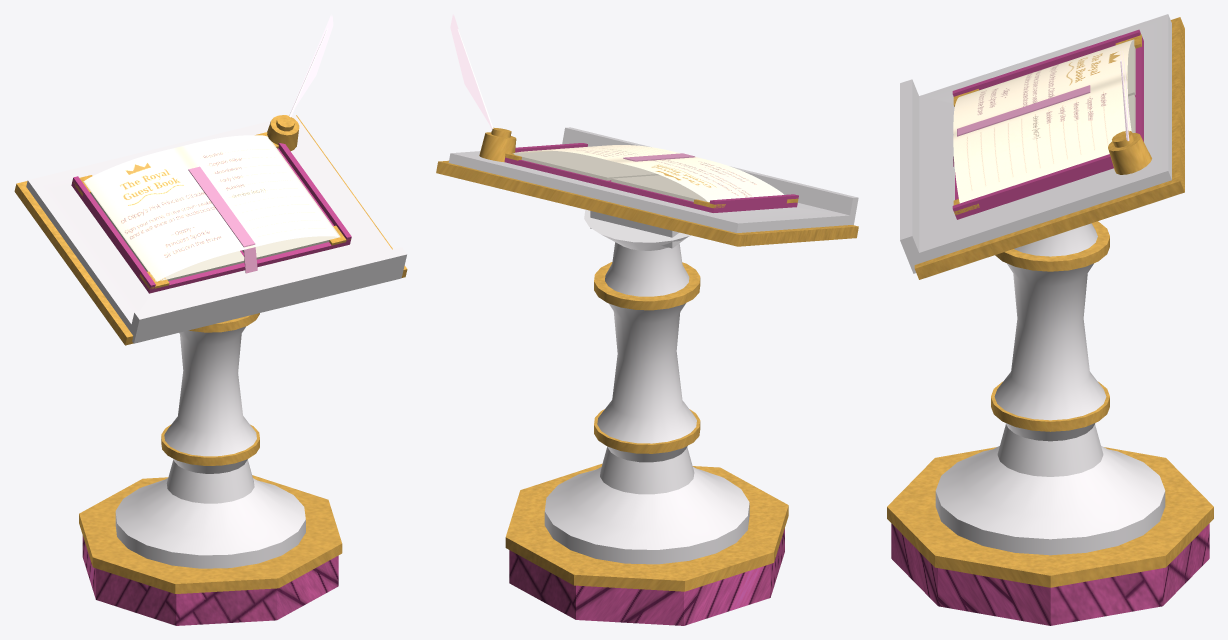
File: citadel_guestbook.glb
3 views of the same model, side by side, from view 1: azimuth 30°, elevation 25°; view 2: azimuth 150°, elevation 25°; view 3: azimuth 270°, elevation 25° (orthographic). The views are drawn at different scales.
Parts seen in each view (by area): view 1: gb_white, gb_pages, gb_gold, gb_pinkstone, gb_velvet, gb_pageedge, gb_satin, gb_feather; view 2: gb_white, gb_gold, gb_pinkstone, gb_pages, gb_pageedge, gb_velvet, gb_feather; view 3: gb_white, gb_gold, gb_pages, gb_pinkstone, gb_velvet, gb_satin, gb_pageedge.
Part boxes in pixels (x1=…): gb_white: x1=26, y1=115, x2=406, y2=568; gb_pages: x1=85, y1=135, x2=339, y2=281; gb_gold: x1=14, y1=115, x2=407, y2=593; gb_pinkstone: x1=82, y1=535, x2=338, y2=625; gb_velvet: x1=71, y1=143, x2=351, y2=293; gb_pageedge: x1=83, y1=136, x2=340, y2=281; gb_satin: x1=188, y1=166, x2=257, y2=273; gb_feather: x1=289, y1=14, x2=333, y2=117; gb_white: x1=448, y1=127, x2=858, y2=564; gb_gold: x1=436, y1=127, x2=858, y2=591; gb_pinkstone: x1=509, y1=528, x2=784, y2=625; gb_pages: x1=512, y1=145, x2=783, y2=201; gb_pageedge: x1=514, y1=151, x2=709, y2=202; gb_velvet: x1=504, y1=143, x2=798, y2=212; gb_feather: x1=450, y1=14, x2=493, y2=130; gb_white: x1=900, y1=14, x2=1171, y2=555; gb_gold: x1=887, y1=17, x2=1213, y2=587; gb_pages: x1=953, y1=39, x2=1133, y2=203; gb_pinkstone: x1=891, y1=523, x2=1209, y2=625; gb_velvet: x1=952, y1=29, x2=1143, y2=219; gb_satin: x1=953, y1=85, x2=1090, y2=166; gb_pageedge: x1=1127, y1=40, x2=1135, y2=132.
Size of the model in its own units: 0.9183 by 1.5 by 0.74.
Materials: 8 (3 with a texture image).
